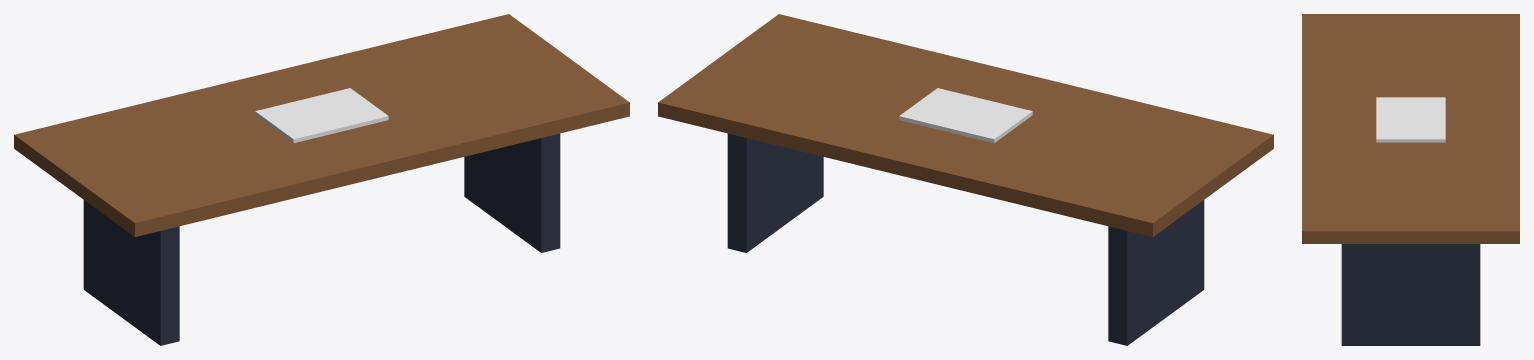
File: meeting_table.glb
The picture shows the model from 3 angles, left to right: view 1: azimuth 30°, elevation 25°; view 2: azimuth 150°, elevation 25°; view 3: azimuth 270°, elevation 25°; orthographic projection. The views are drawn at different scales.
Visible parts, largest first — view 1: top, leg.002, leg.003, notepad; view 2: top, leg.002, leg.003, notepad; view 3: top, leg.003, notepad.
Part boxes in pixels (x1=…): top: x1=14, y1=14, x2=629, y2=236; leg.002: x1=83, y1=200, x2=179, y2=345; leg.003: x1=464, y1=133, x2=560, y2=252; notepad: x1=255, y1=88, x2=388, y2=143; top: x1=658, y1=14, x2=1273, y2=236; leg.002: x1=1108, y1=200, x2=1204, y2=345; leg.003: x1=727, y1=133, x2=823, y2=252; notepad: x1=899, y1=88, x2=1032, y2=143; top: x1=1302, y1=14, x2=1519, y2=243; leg.003: x1=1341, y1=244, x2=1480, y2=345; notepad: x1=1376, y1=97, x2=1445, y2=142.
Bounding box in the file's own units: 2.6 × 0.78 × 1.1.
